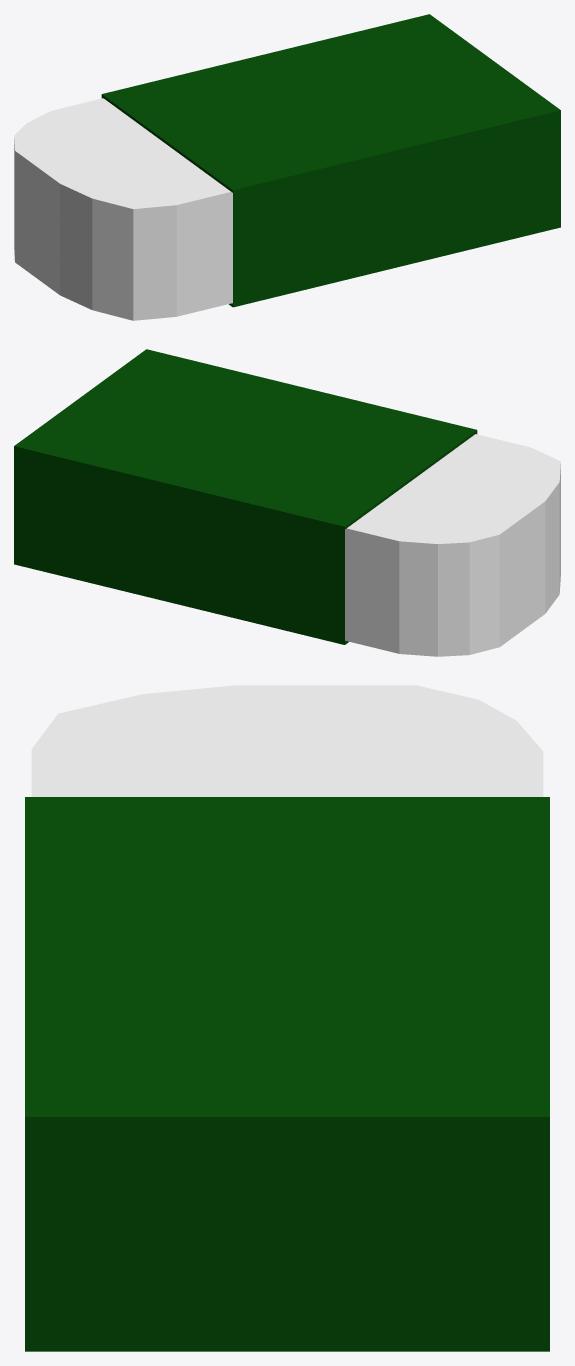
Rendered from SILGI.fbx.
The picture shows the model from 3 angles, top to bottom: view 1: azimuth 30°, elevation 25°; view 2: azimuth 150°, elevation 25°; view 3: azimuth 270°, elevation 25°; orthographic projection. The views are drawn at different scales.
Visible parts, largest first — view 1: silgi; view 2: silgi; view 3: silgi.
Boxes of the visible parts, bbox=[...] form: silgi: bbox=[14, 14, 560, 320]; silgi: bbox=[14, 349, 560, 656]; silgi: bbox=[25, 685, 549, 1351].
Size of the model in its own units: 82.23 by 20.56 by 41.74.
